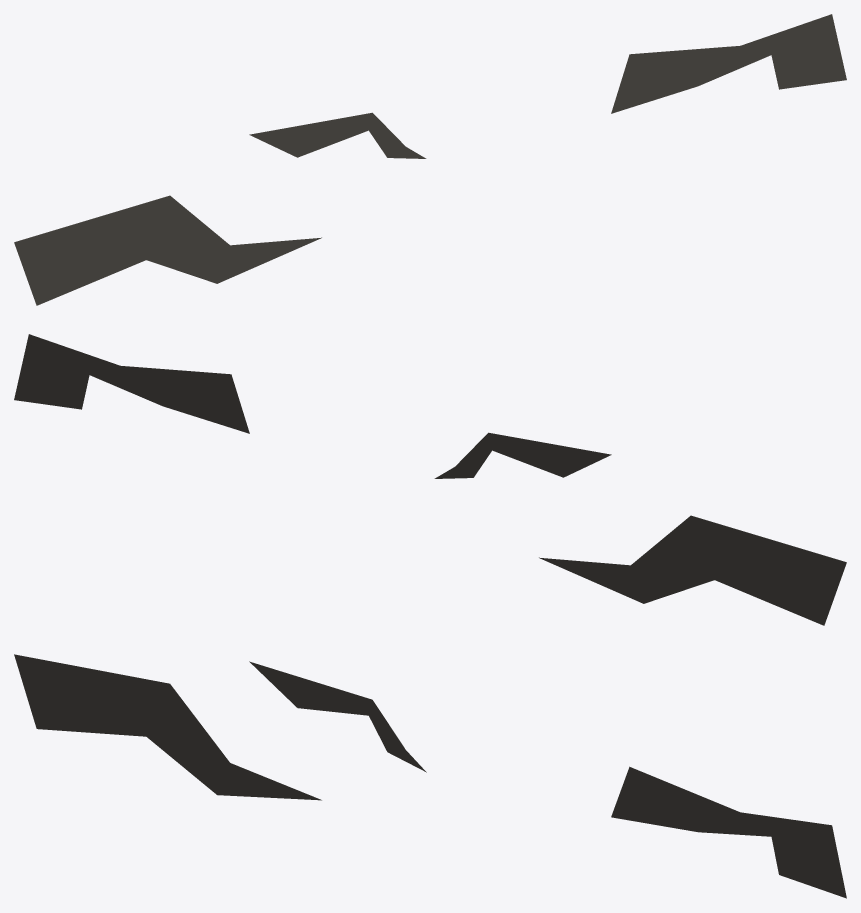
The model's file is BarTableDecals.fbx.
3 renders of one model, top to bottom at view 1: azimuth 30°, elevation 25°; view 2: azimuth 150°, elevation 25°; view 3: azimuth 330°, elevation 25°, orthographic.
Parts seen in each view (by area): view 1: BarTableDecals; view 2: BarTableDecals; view 3: BarTableDecals.
Boxes of the visible parts, x1,y1,x2,y2 form: BarTableDecals: (14, 14, 846, 305); BarTableDecals: (14, 334, 846, 625); BarTableDecals: (14, 654, 846, 898).
Size of the model in its own units: 2.46 by 2.38e-07 by 0.4.
